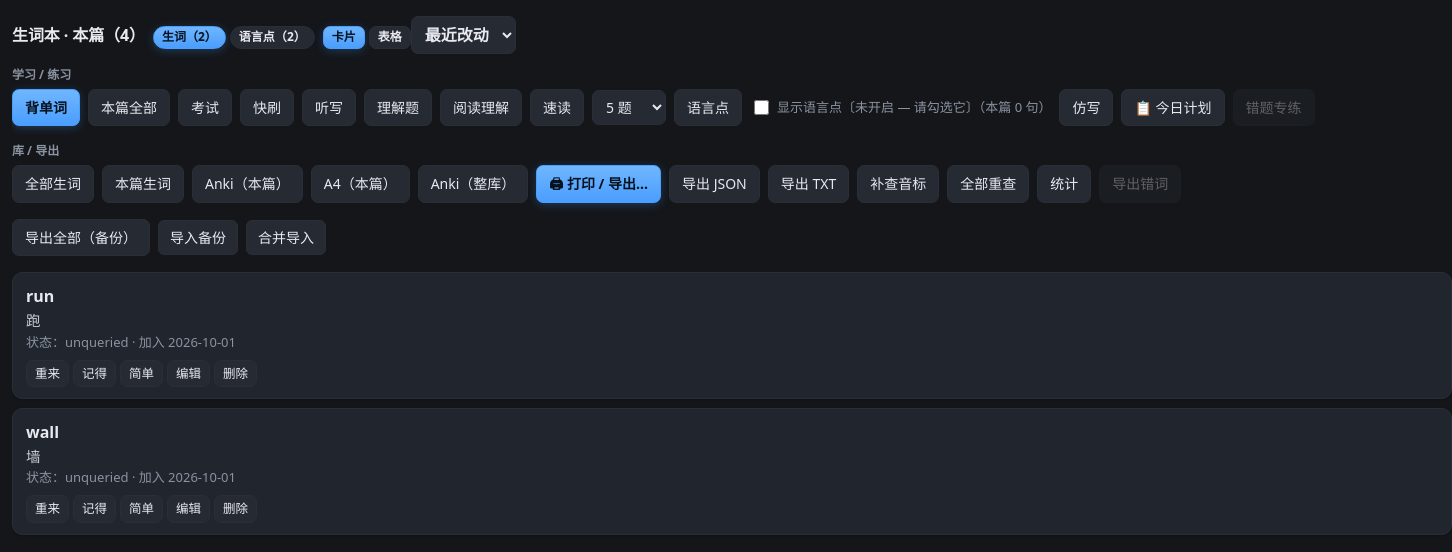
SideVocab：生词 / 语言点 分开显示 › 切到语言点：显示词组/习语/用法，生词消失
Click the button "语言点（2）": [272, 37] box [230,26,315,49]
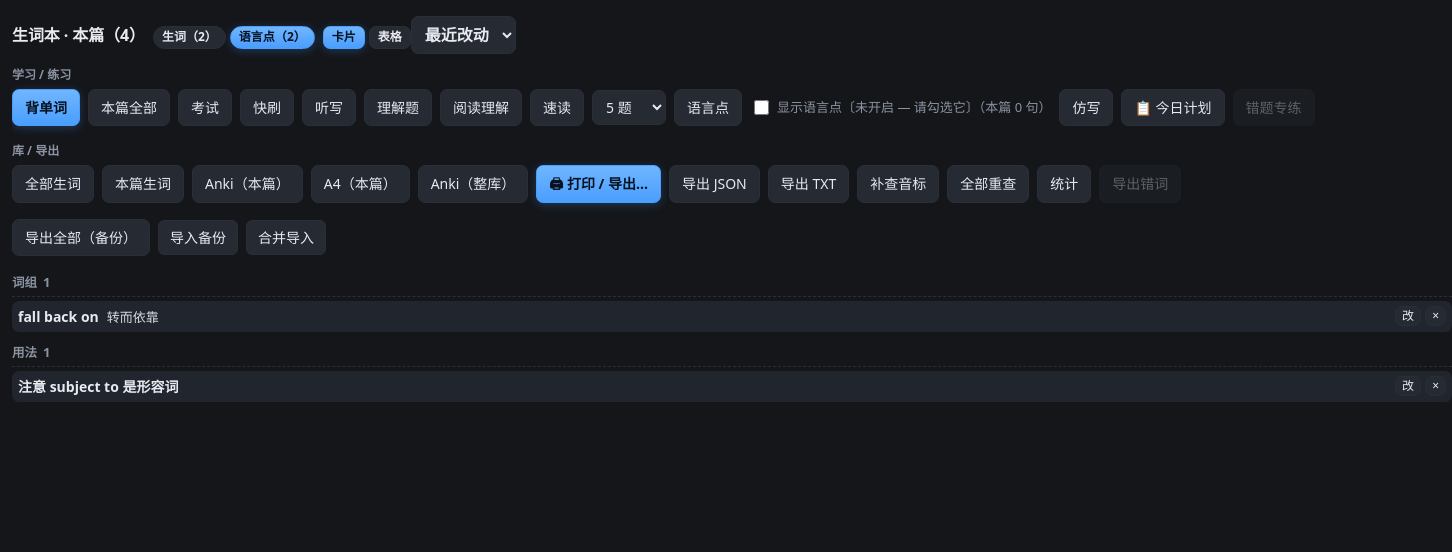
Check: the text "fall back on" is shown, box [18,306,99,327]
Check: the text "注意 subject to 是形容词" is shown, box [18,376,178,397]
Check: the text "run" is gone
